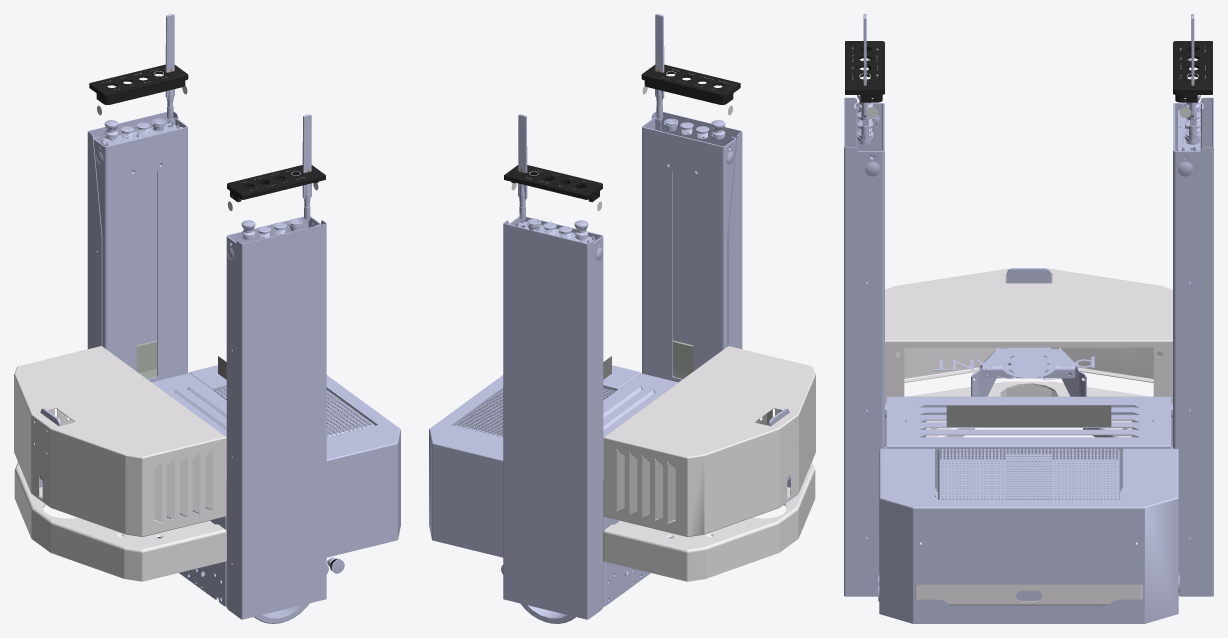
Rendered from AGV_small.glb.
The picture shows the model from 3 angles, left to right: view 1: azimuth 30°, elevation 25°; view 2: azimuth 150°, elevation 25°; view 3: azimuth 270°, elevation 25°; orthographic projection. The views are drawn at different scales.
Visible parts, largest first — view 1: 340-436-P002-06 Tunnelblech-1 - Teil, 340-436-P005-03 Sch_X_FCrzenblech-1 - Teil; view 2: 340-436-P002-06 Tunnelblech-1 - Teil, 340-436-P005-03 Sch_X_FCrzenblech-1 - Teil; view 3: 340-436-P002-06 Tunnelblech-1 - Teil, 340-436-P005-03 Sch_X_FCrzenblech-1 - Teil.
Boxes of the visible parts, x1,y1,x2,y2 form: 340-436-P002-06 Tunnelblech-1 - Teil: [39, 14, 400, 623]; 340-436-P005-03 Sch_X_FCrzenblech-1 - Teil: [14, 64, 325, 581]; 340-436-P002-06 Tunnelblech-1 - Teil: [429, 14, 790, 623]; 340-436-P005-03 Sch_X_FCrzenblech-1 - Teil: [504, 64, 815, 581]; 340-436-P002-06 Tunnelblech-1 - Teil: [844, 14, 1213, 623]; 340-436-P005-03 Sch_X_FCrzenblech-1 - Teil: [845, 41, 1212, 605].
Bounding box in the file's own units: 24056 × 36518 × 20642.
2 materials, 2 textured.
